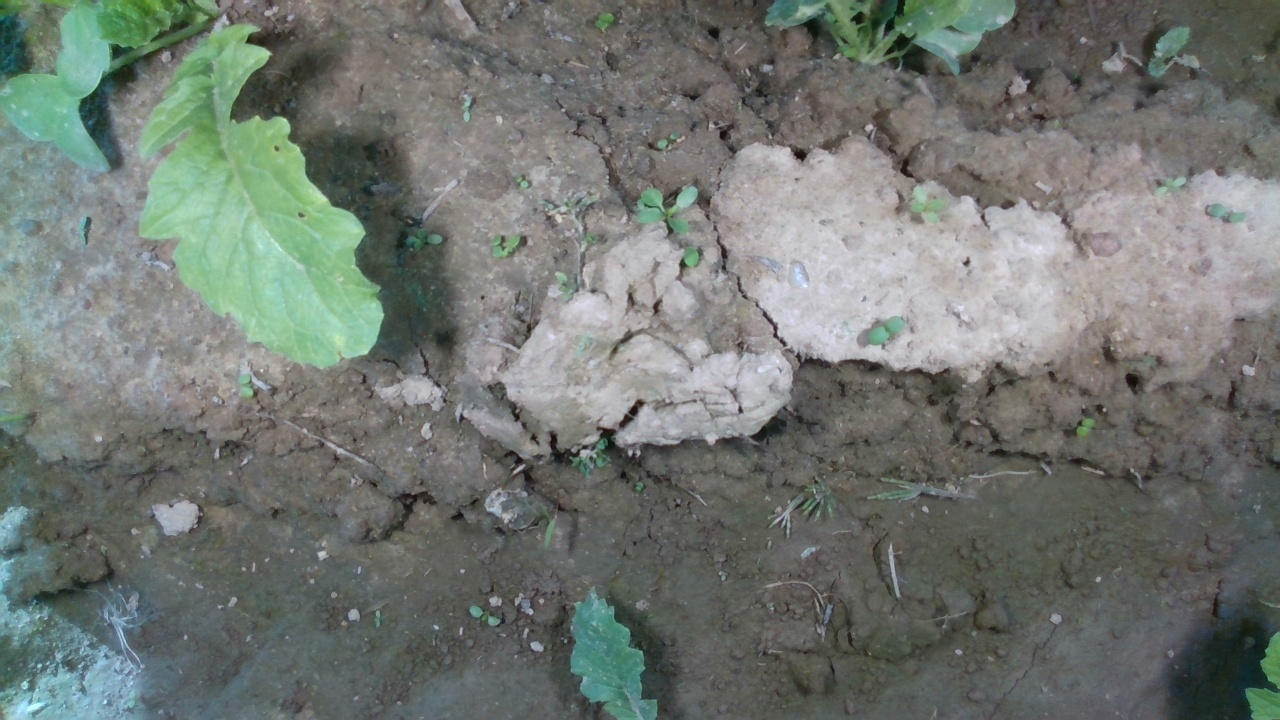weed: (905, 183, 949, 225), (863, 313, 907, 347), (402, 226, 446, 252), (1206, 201, 1247, 226), (1148, 174, 1189, 198), (468, 603, 502, 627), (653, 128, 683, 150), (236, 372, 256, 401), (592, 10, 615, 31), (459, 92, 473, 123), (1077, 416, 1095, 437), (515, 174, 532, 189), (374, 608, 382, 630)
